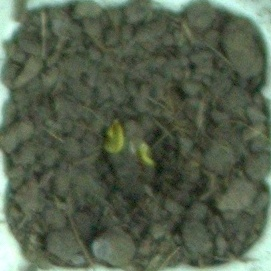chilli seed: (101, 116, 126, 155), (136, 139, 162, 168)
